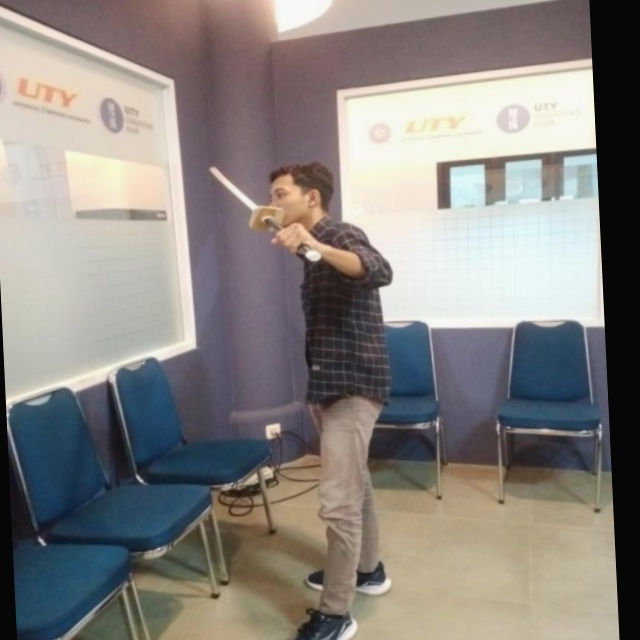Sharp-Object: (198, 151, 331, 281)
